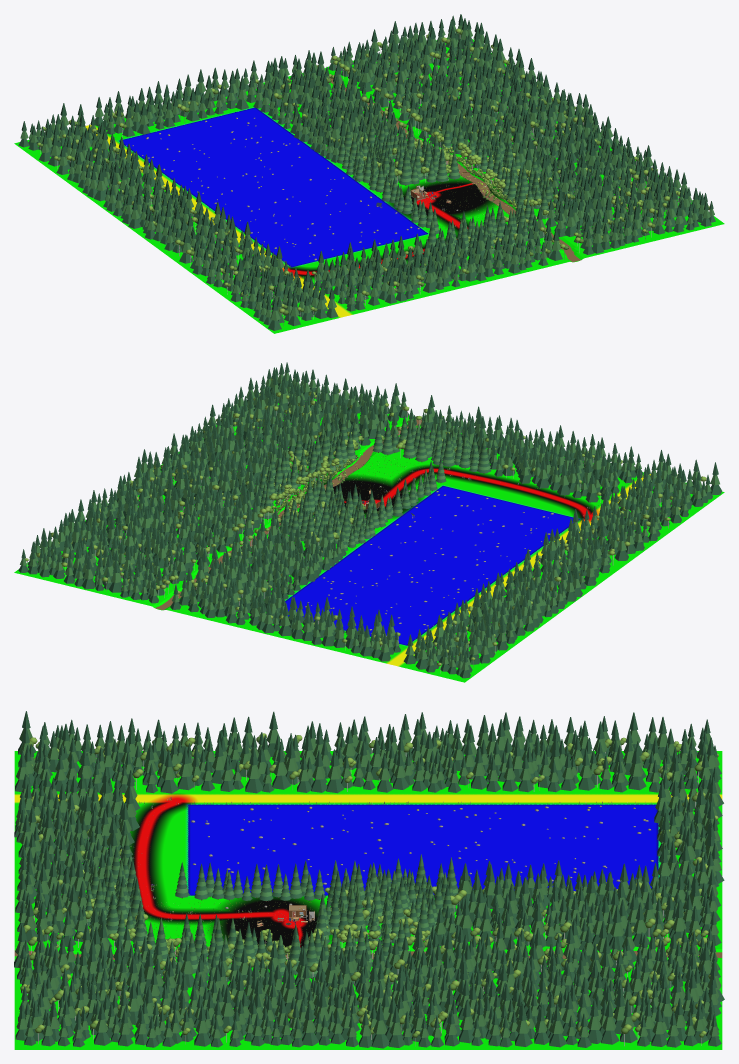
File: set.glb
3 renders of one model, top to bottom at view 1: azimuth 30°, elevation 25°; view 2: azimuth 150°, elevation 25°; view 3: azimuth 270°, elevation 25°, orthographic. The views are drawn at different scales.
Parts seen in each view (by area): view 1: Spruces, Ground, BankBirch0, BankBrush, BrookWater, Cabin; view 2: Spruces, Ground, BankBirch0, BankBrush, BrookWater, Cabin; view 3: Spruces, Ground, BankBirch0, BankBrush, Cabin.
Part boxes in pixels (x1,y1,x2,y2): Spruces: (18, 14, 715, 330); Ground: (14, 38, 724, 333); BankBirch0: (37, 28, 708, 325); BankBrush: (39, 30, 709, 314); BrookWater: (329, 77, 581, 261); Cabin: (126, 117, 458, 273); Spruces: (18, 362, 721, 678); Ground: (14, 398, 724, 682); BankBirch0: (25, 378, 706, 673); BankBrush: (25, 378, 702, 665); BrookWater: (155, 419, 421, 610); Cabin: (305, 468, 587, 636); Spruces: (14, 711, 724, 1048); Ground: (14, 751, 722, 1049); BankBirch0: (22, 733, 718, 1046); BankBrush: (20, 736, 710, 1037); Cabin: (133, 799, 653, 926).
Bounding box in the file's own units: 201 × 16.71 × 201.
67 materials, 1 textured.
